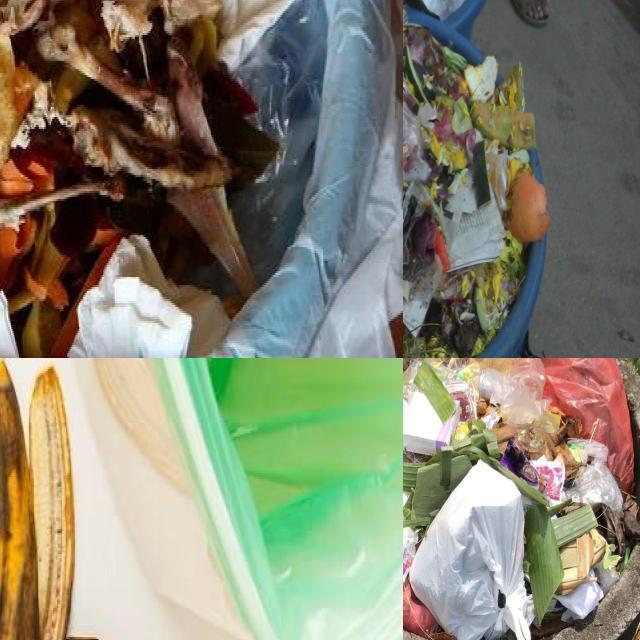Disposable: (509, 358, 545, 400)
Garbage: (403, 358, 640, 640), (403, 0, 549, 358)
Plastic_Bag: (409, 460, 531, 640), (539, 358, 634, 494), (567, 460, 623, 512), (403, 581, 437, 637), (426, 358, 481, 387), (403, 101, 422, 160), (403, 358, 422, 387)
Plastic_wraper: (501, 440, 546, 492), (529, 456, 565, 506), (445, 379, 476, 423), (403, 527, 417, 583)
contaminated_waste: (219, 0, 294, 70)
